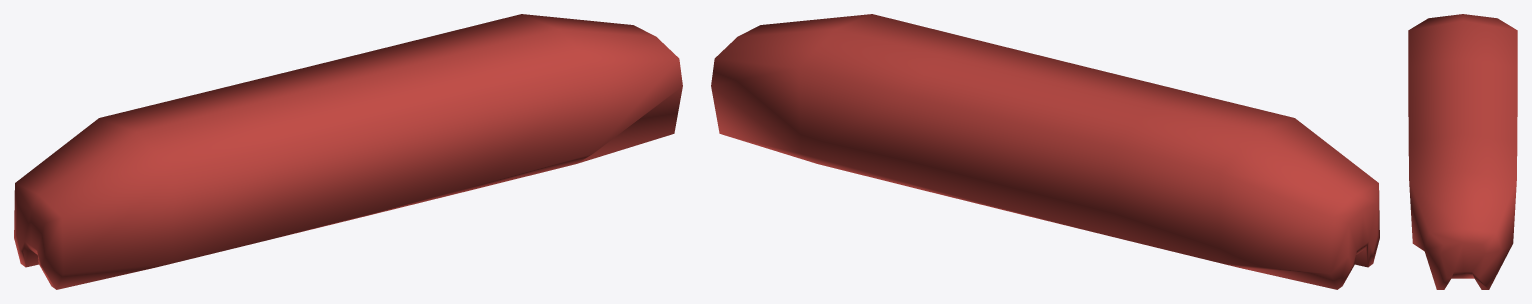
Rendered from coffin_lod2.glb.
3 renders of one model, left to right at view 1: azimuth 30°, elevation 25°; view 2: azimuth 150°, elevation 25°; view 3: azimuth 270°, elevation 25°, orthographic. The views are drawn at different scales.
Parts seen in each view (by area): view 1: coffin_lod2; view 2: coffin_lod2; view 3: coffin_lod2.
Boxes of the visible parts, left/top/right/bottom form: coffin_lod2: left=14, top=14, right=682, bottom=289; coffin_lod2: left=711, top=14, right=1379, bottom=289; coffin_lod2: left=1408, top=14, right=1517, bottom=289.
Bounding box in the file's own units: 1 × 0.1846 × 0.2052.
